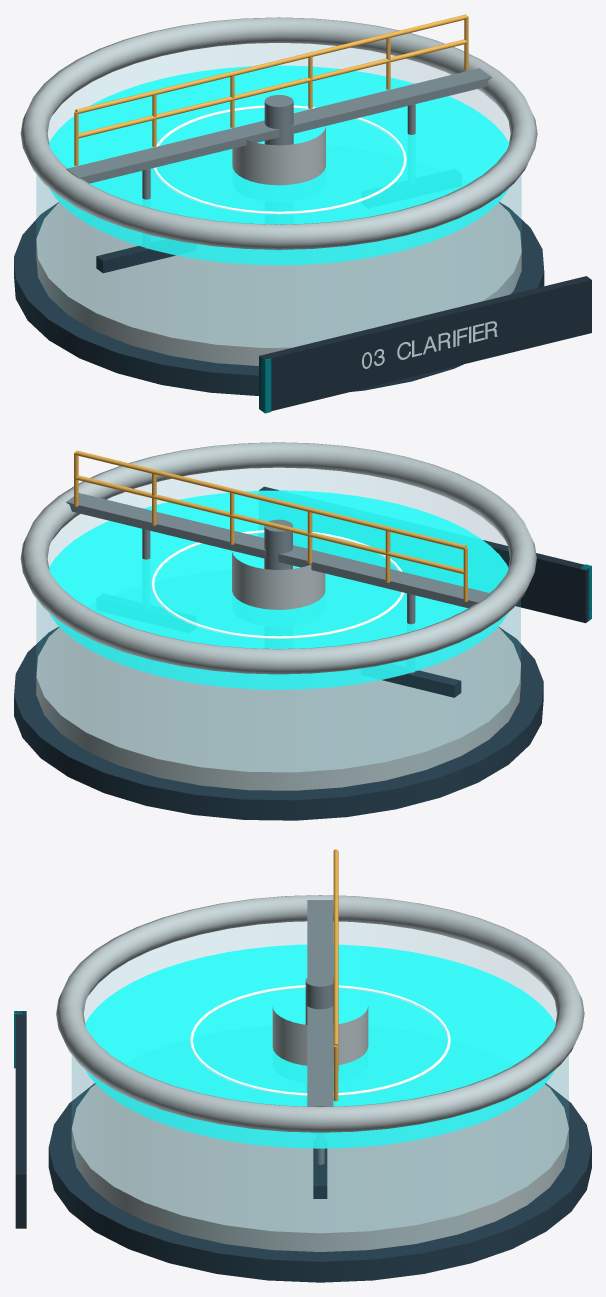
Rendered from water-clarifier.25e3a853884b.glb.
The picture shows the model from 3 angles, top to bottom: view 1: azimuth 30°, elevation 25°; view 2: azimuth 150°, elevation 25°; view 3: azimuth 270°, elevation 25°; orthographic projection. The views are drawn at different scales.
Parts seen in each view (by area): view 1: structure_cream_00030, structure_cutaway_window_00029, settling_surface_00005, structure_dark_00032, structure_edge_00028, scraper_bridge_00009, safety_rail_00017, safety_rail_00016, surface_ripple_00022, structure_steel_00031, bottom_scraper_00019, structure_white_00034 (+1 smaller); view 2: structure_cream_00030, structure_cutaway_window_00029, settling_surface_00005, structure_edge_00028, scraper_bridge_00009, structure_dark_00032, safety_rail_00017, safety_rail_00016, surface_ripple_00022, bottom_scraper_00019, structure_steel_00031; view 3: structure_cream_00030, structure_cutaway_window_00029, settling_surface_00005, structure_edge_00028, scraper_bridge_00009, structure_dark_00032, surface_ripple_00022, safety_rail_00017, structure_steel_00031, bottom_scraper_00021.
Part boxes in pixels (bbox=[...]): structure_cream_00030: bbox=[20, 17, 537, 365]; structure_cutaway_window_00029: bbox=[36, 43, 521, 359]; settling_surface_00005: bbox=[49, 65, 508, 265]; structure_dark_00032: bbox=[259, 276, 591, 411]; structure_edge_00028: bbox=[14, 202, 544, 395]; scraper_bridge_00009: bbox=[66, 68, 491, 183]; safety_rail_00017: bbox=[75, 14, 467, 113]; safety_rail_00016: bbox=[77, 39, 467, 138]; surface_ripple_00022: bbox=[153, 105, 406, 214]; structure_steel_00031: bbox=[264, 95, 293, 145]; bottom_scraper_00019: bbox=[96, 246, 175, 273]; structure_white_00034: bbox=[362, 321, 497, 368]; structure_cream_00030: bbox=[20, 442, 536, 790]; structure_cutaway_window_00029: bbox=[36, 468, 520, 772]; settling_surface_00005: bbox=[49, 490, 508, 689]; structure_edge_00028: bbox=[14, 626, 543, 820]; scraper_bridge_00009: bbox=[66, 493, 491, 608]; structure_dark_00032: bbox=[259, 486, 590, 623]; safety_rail_00017: bbox=[75, 450, 466, 549]; safety_rail_00016: bbox=[75, 475, 464, 574]; surface_ripple_00022: bbox=[151, 530, 404, 638]; bottom_scraper_00019: bbox=[382, 670, 461, 697]; structure_steel_00031: bbox=[264, 519, 292, 569]; structure_cream_00030: bbox=[56, 895, 584, 1251]; structure_cutaway_window_00029: bbox=[72, 922, 568, 1250]; settling_surface_00005: bbox=[85, 944, 555, 1148]; structure_edge_00028: bbox=[48, 1083, 591, 1282]; scraper_bridge_00009: bbox=[307, 900, 333, 1106]; structure_dark_00032: bbox=[15, 1011, 26, 1228]; surface_ripple_00022: bbox=[190, 985, 450, 1096]; safety_rail_00017: bbox=[333, 849, 338, 1045]; structure_steel_00031: bbox=[305, 974, 333, 1024]; bottom_scraper_00021: bbox=[313, 1148, 327, 1198].
Size of the model in its own units: 5.9 by 2.65 by 6.28.
